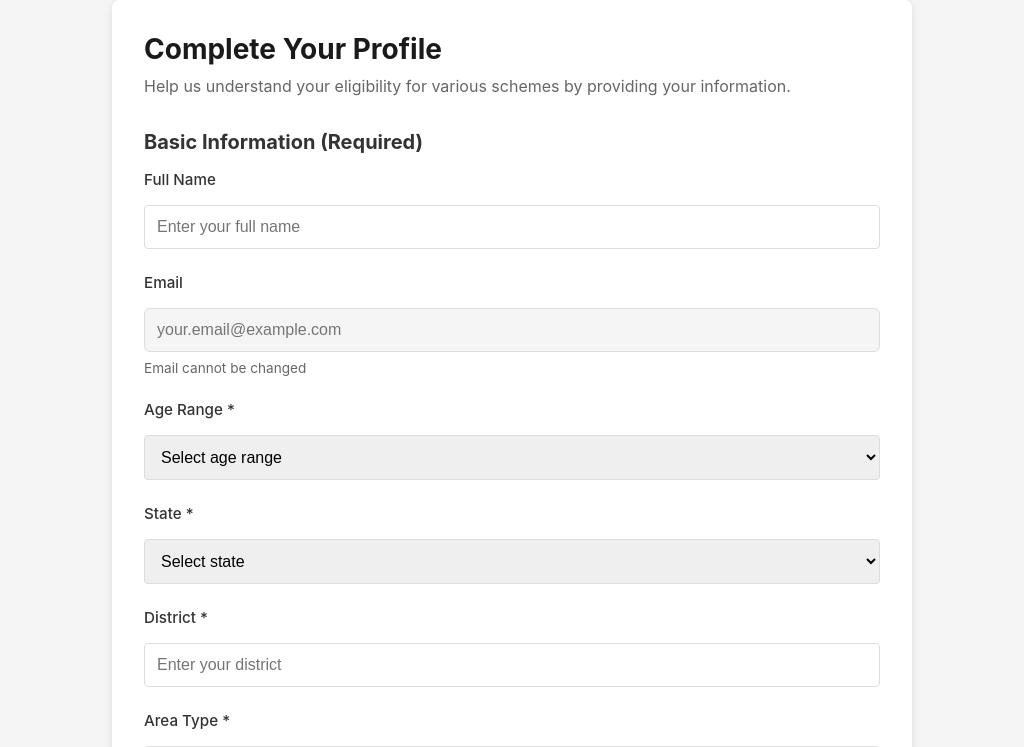
Test: UserProfileForm › requires consent checkbox to be checked
The width and height of the screenshot is (1024, 747).
# Fill required fields
Select "26-35" in the dropdown labelled "Age Range *" at [512, 458], box [144,435,880,480]
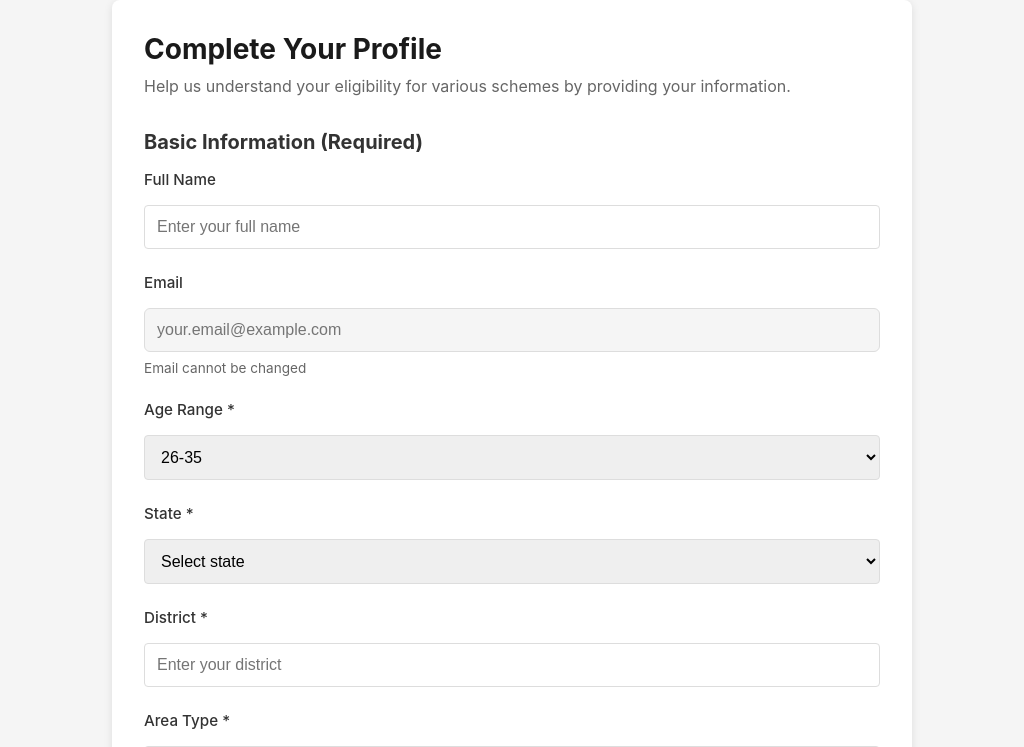
Select "Karnataka" in the dropdown labelled "State *" at [512, 562], box [144,539,880,584]
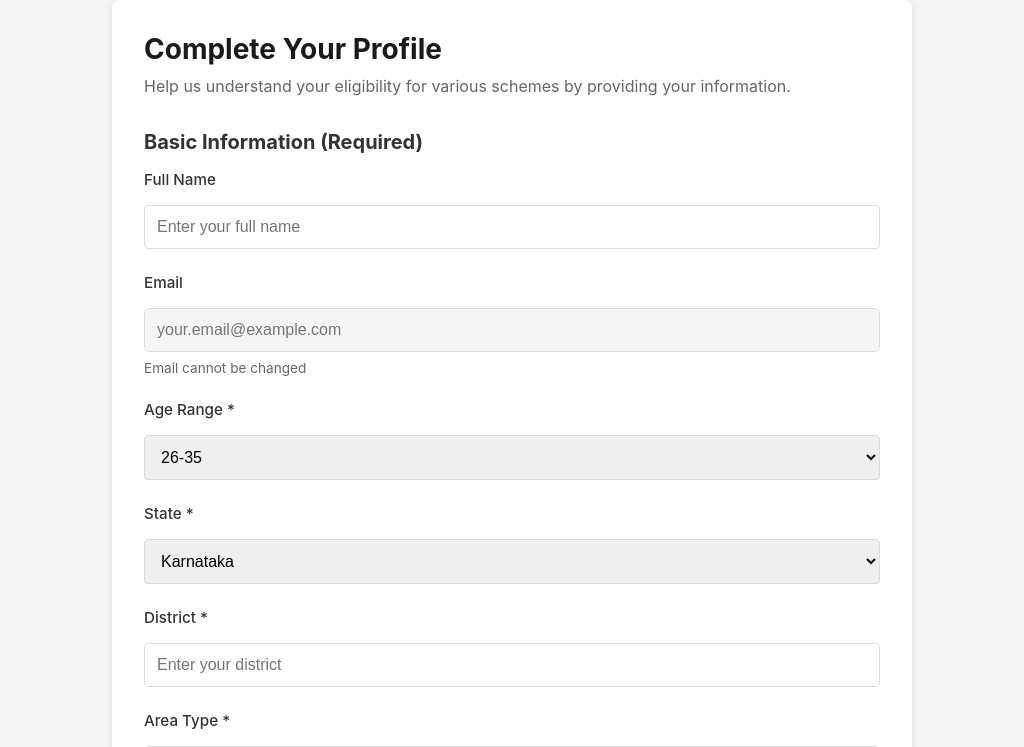
Type "Bangalore" into the field labelled "District *" at [512, 665], box [144,643,880,687]
(page scrolled)
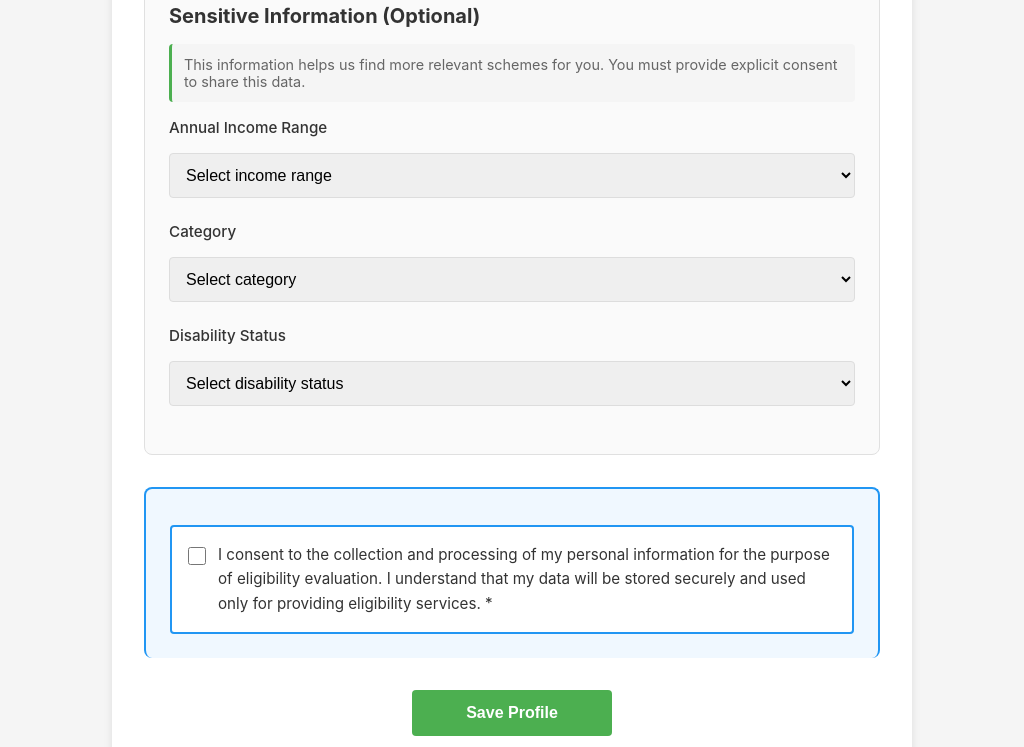
Click the button "Save Profile" at [512, 713], box [412,690,612,736]
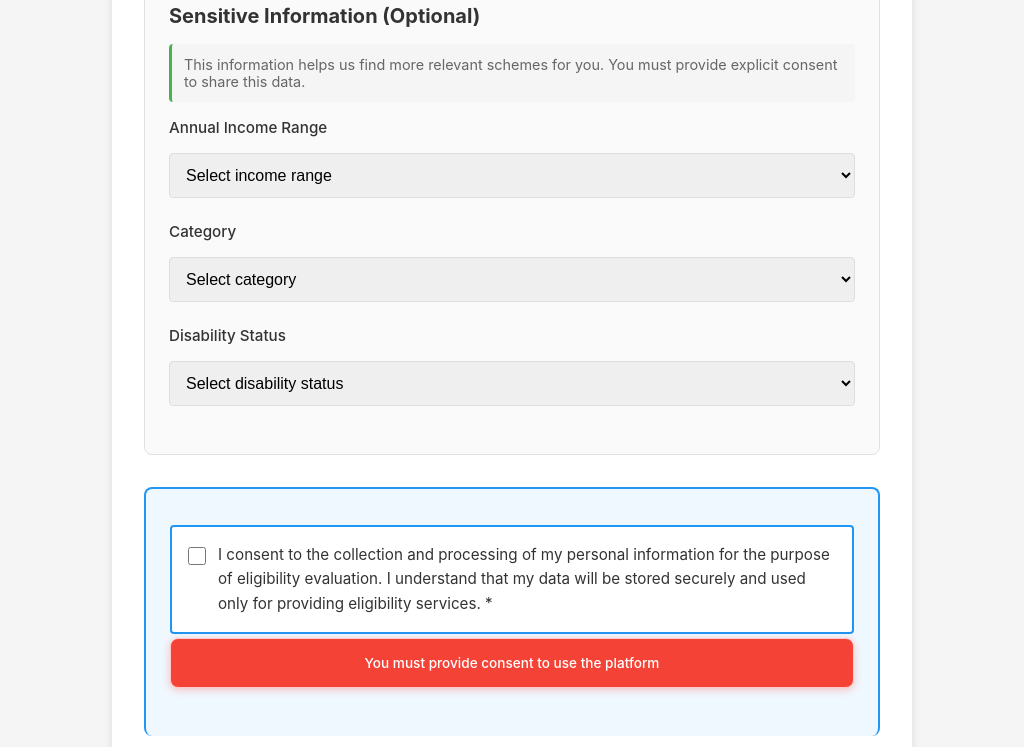
Now the text "You must provide consent to use the platform" is shown, box [170,638,854,688]
